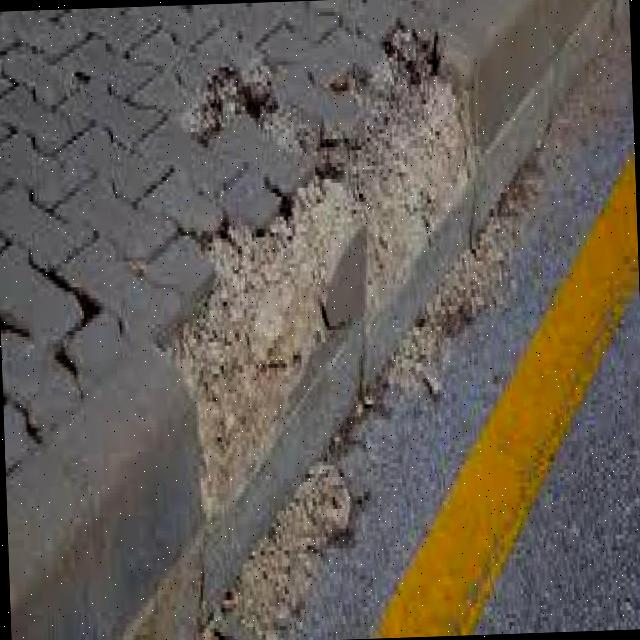curb: (1, 274, 322, 640), (268, 49, 490, 486), (447, 1, 628, 178)
